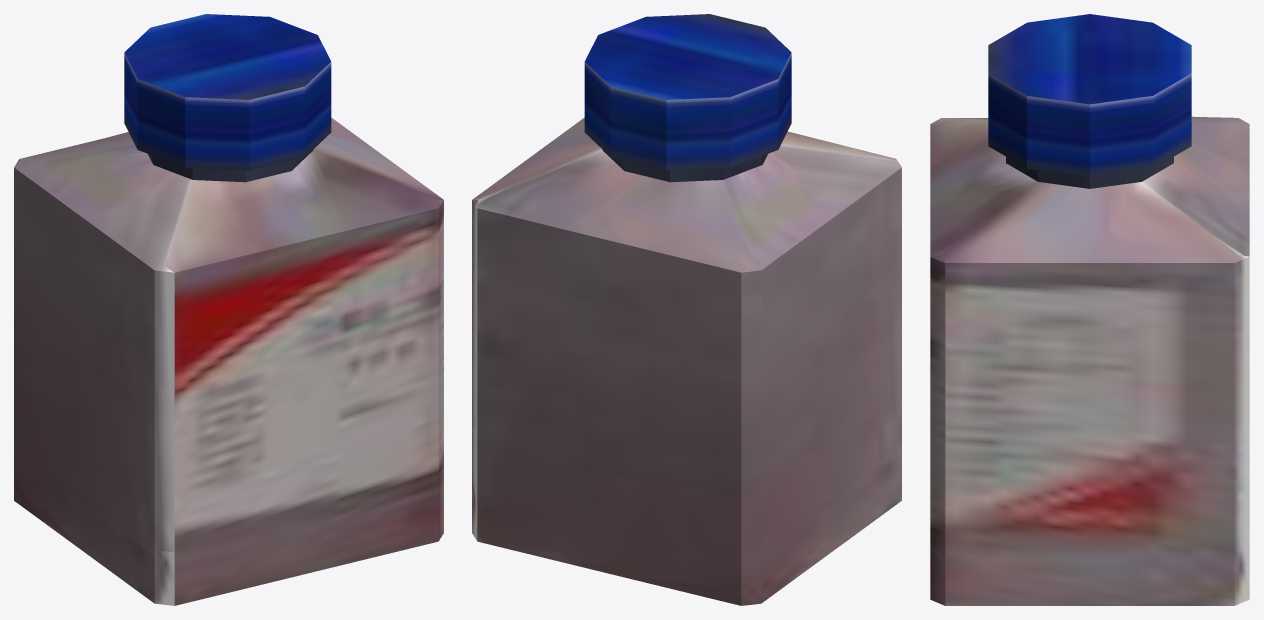
File: hydrochlorate_salts.FBX
3 views of the same model, side by side, from view 1: azimuth 30°, elevation 25°; view 2: azimuth 150°, elevation 25°; view 3: azimuth 270°, elevation 25° (orthographic). The views are drawn at different scales.
Parts seen in each view (by area): view 1: hydrochlorate_salts; view 2: hydrochlorate_salts; view 3: hydrochlorate_salts.
Boxes of the visible parts, box(x1,y1,x2,y2) form: hydrochlorate_salts: box(14, 14, 443, 605); hydrochlorate_salts: box(472, 14, 901, 605); hydrochlorate_salts: box(930, 14, 1249, 605).
Size of the model in its own units: 51.9 by 78.91 by 48.27.
